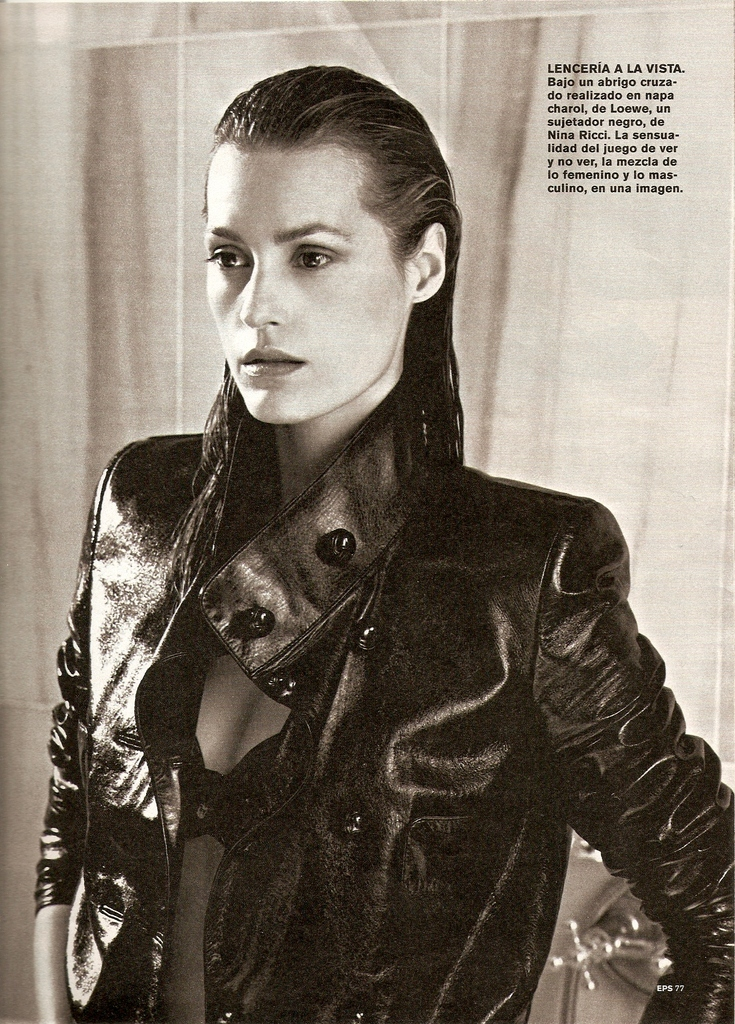Human-face: (200, 143, 407, 422)
